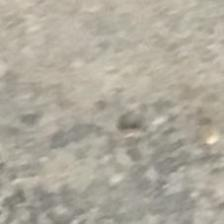Non_Crack: (17, 24, 206, 190)
